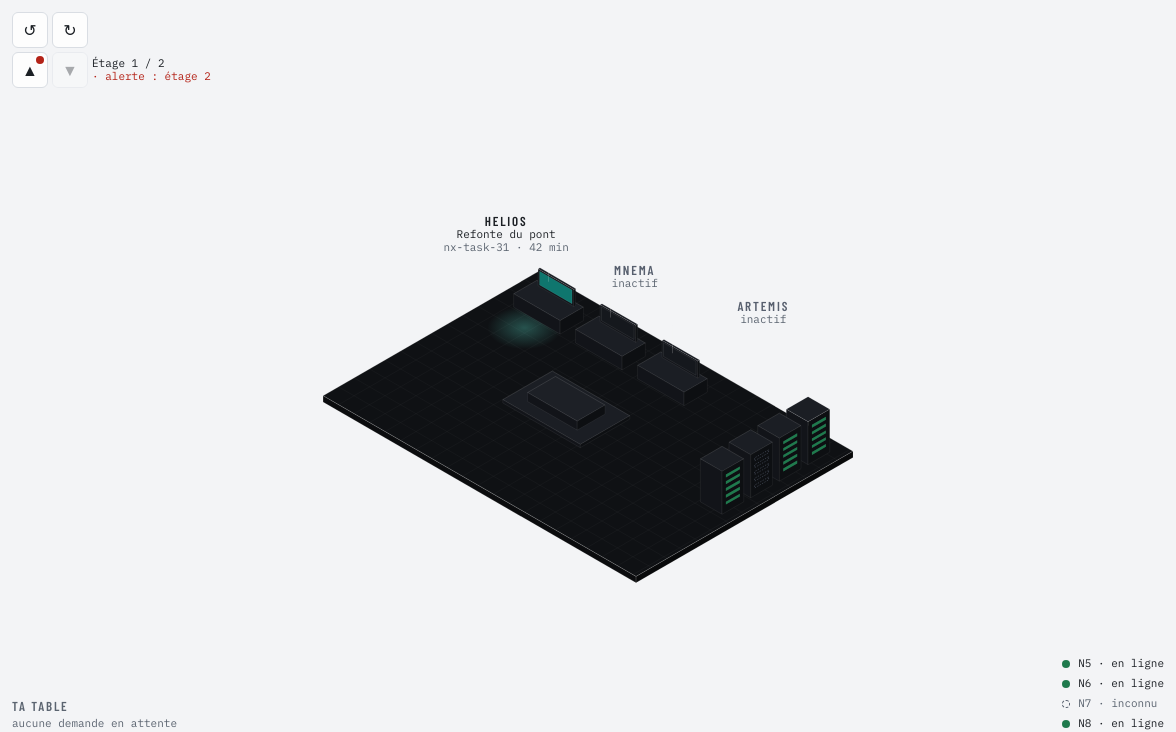
Test: salle : une dernière vue dans le futur (horloge décalée) n'affiche pas « vu il y a »
This screenshot has width=1176, height=732.
Click the button named "Monter d'un étage". click: (30, 70)
box: top-left (12, 52), bottom-right (48, 88)
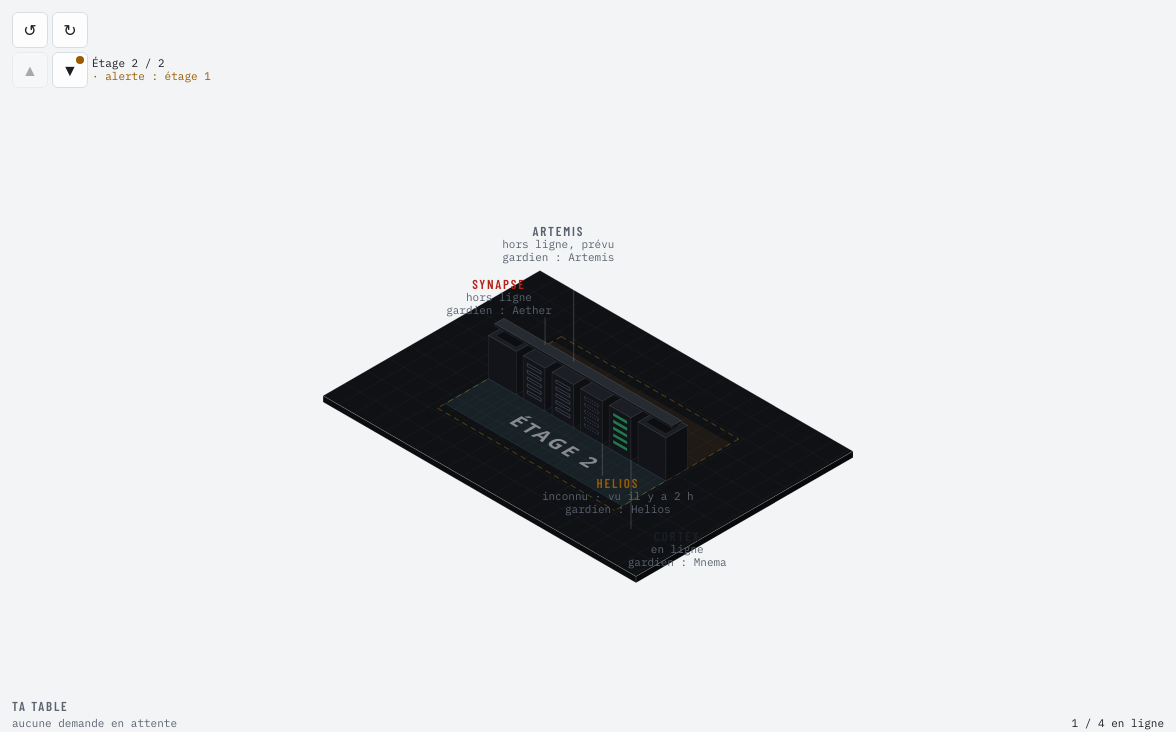
Check: the text "hors ligne" is shown, box top-left (466, 290), bottom-right (532, 304)
